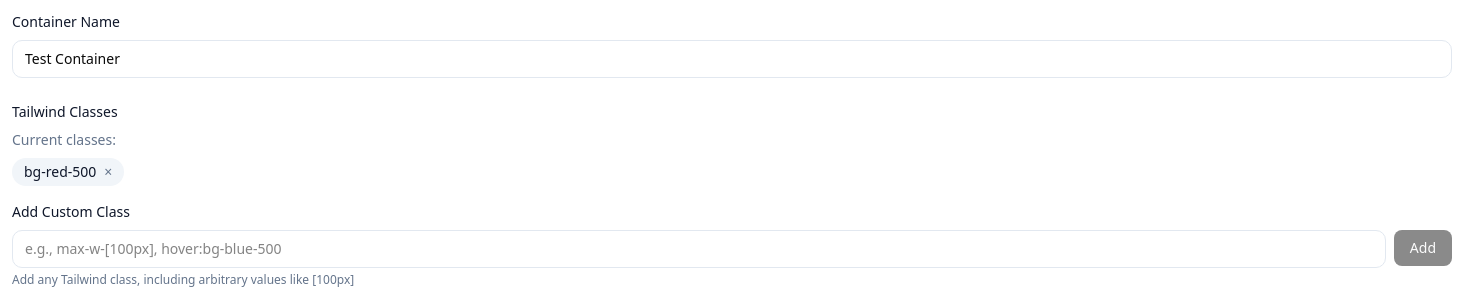
Editor Save Integration Tests › Tailwind Class Management › allows removing existing Tailwind classes
Expected: the text "bg-red-500" is shown, [24, 162, 96, 182]
Click the button named "remove bg-red-500" at (108, 172), box [104, 162, 112, 182]
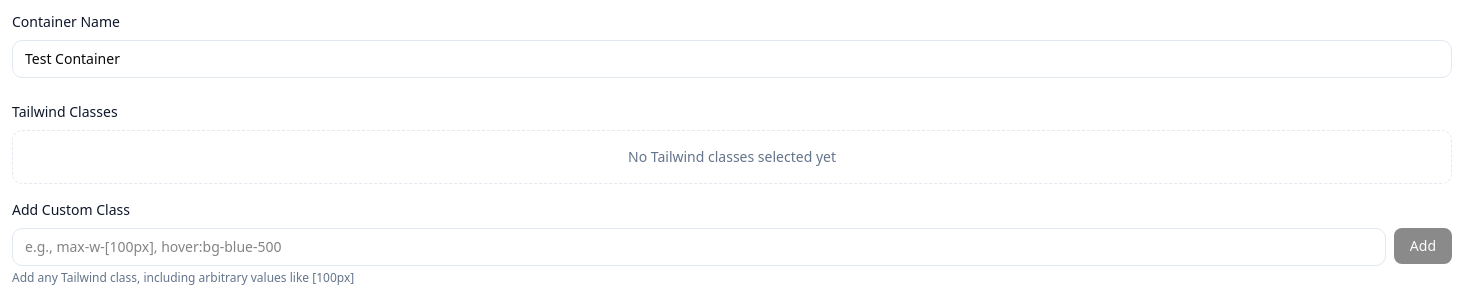
Result: the text "bg-red-500" is gone
